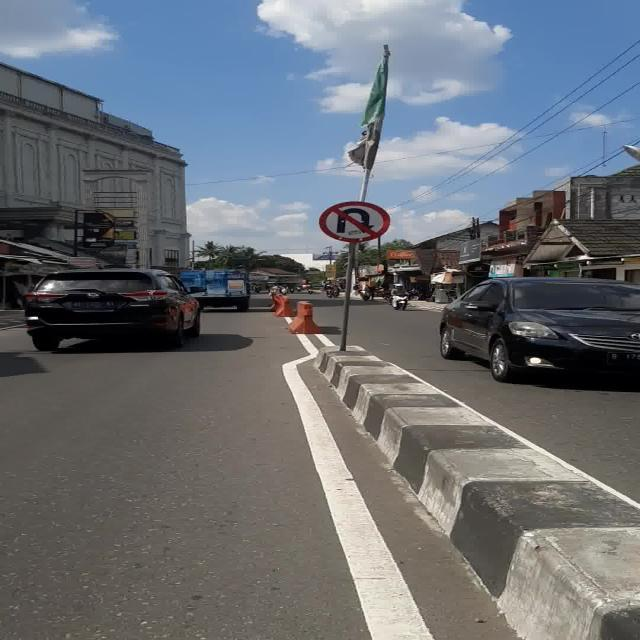Dilarang Putar Balik: (318, 202, 391, 242)
